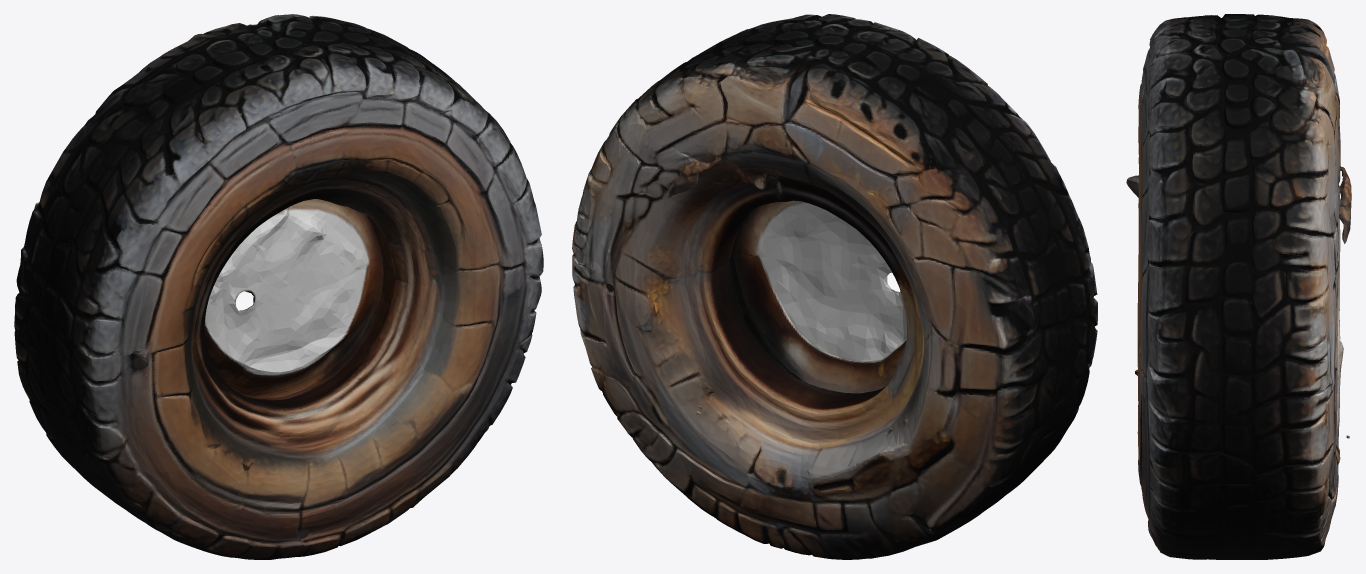
File: old_tire_42_20251230_114038_20251230_120156.glb
The picture shows the model from 3 angles, left to right: view 1: azimuth 30°, elevation 25°; view 2: azimuth 150°, elevation 25°; view 3: azimuth 270°, elevation 25°; orthographic projection.
Parts seen in each view (by area): view 1: world; view 2: world; view 3: world.
Boxes of the visible parts, x1,y1,x2,y2 form: world: (14,14,543,559); world: (572,14,1097,559); world: (1126,14,1351,559).
Bounding box in the file's own units: 0.9939 × 0.9914 × 0.4116.
1 material, 1 textured.
